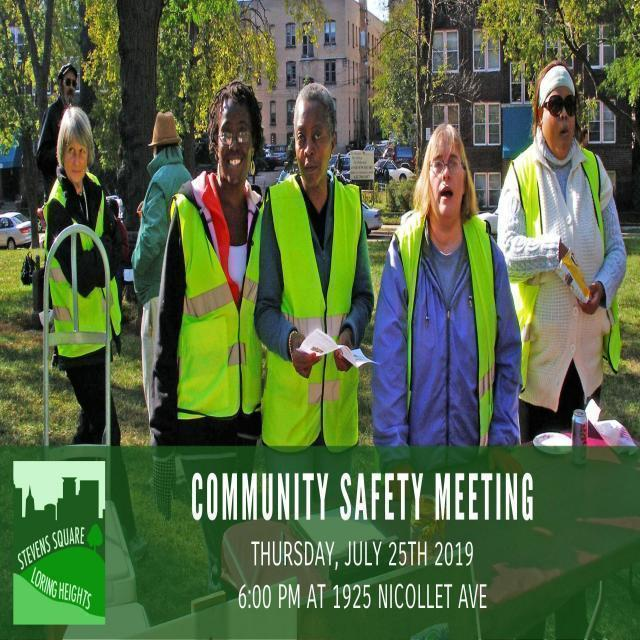no-helmet: (532, 57, 590, 131), (292, 80, 342, 150), (217, 81, 266, 151), (418, 119, 464, 185), (56, 100, 96, 166), (149, 102, 187, 156)
vest: (507, 145, 624, 397), (262, 177, 362, 450), (392, 213, 500, 443), (172, 179, 268, 426), (45, 175, 125, 358)
